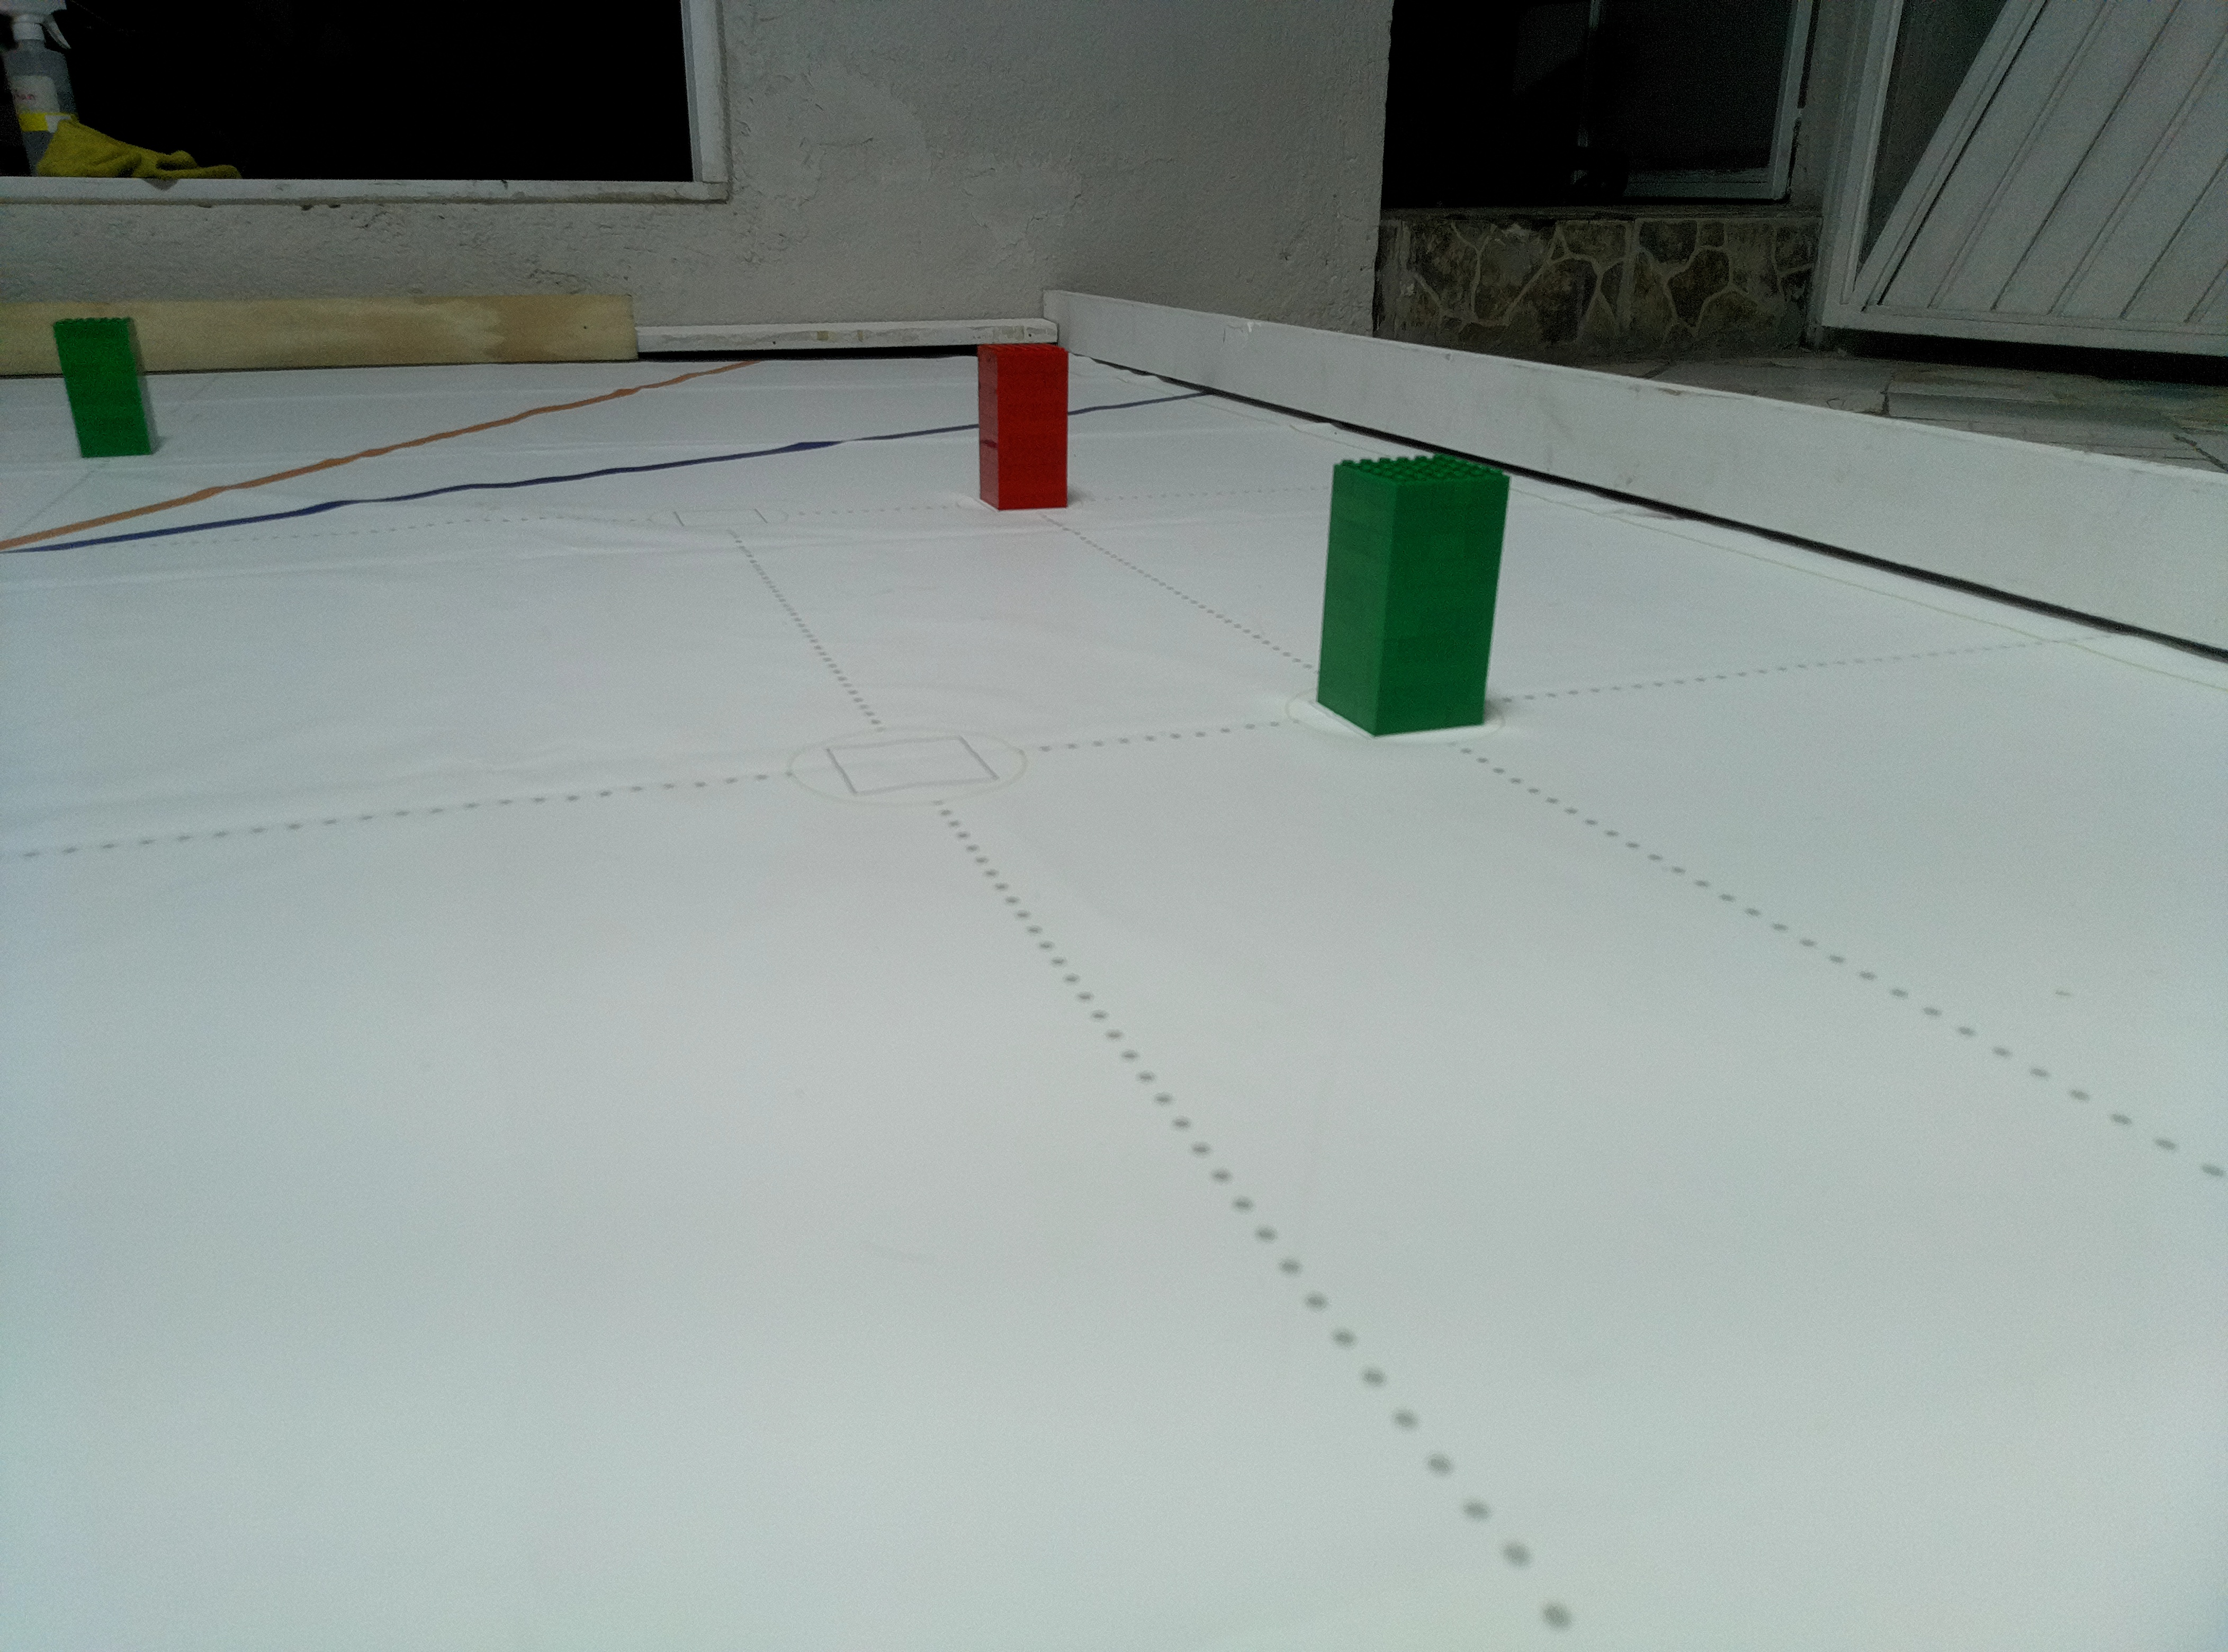greenbox: (1312, 449, 1513, 741), (50, 316, 165, 460)
redbox: (975, 340, 1072, 512)
